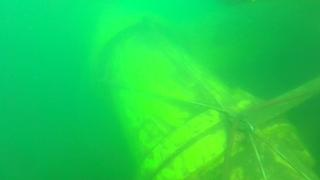pipe: (99, 17, 320, 180)
